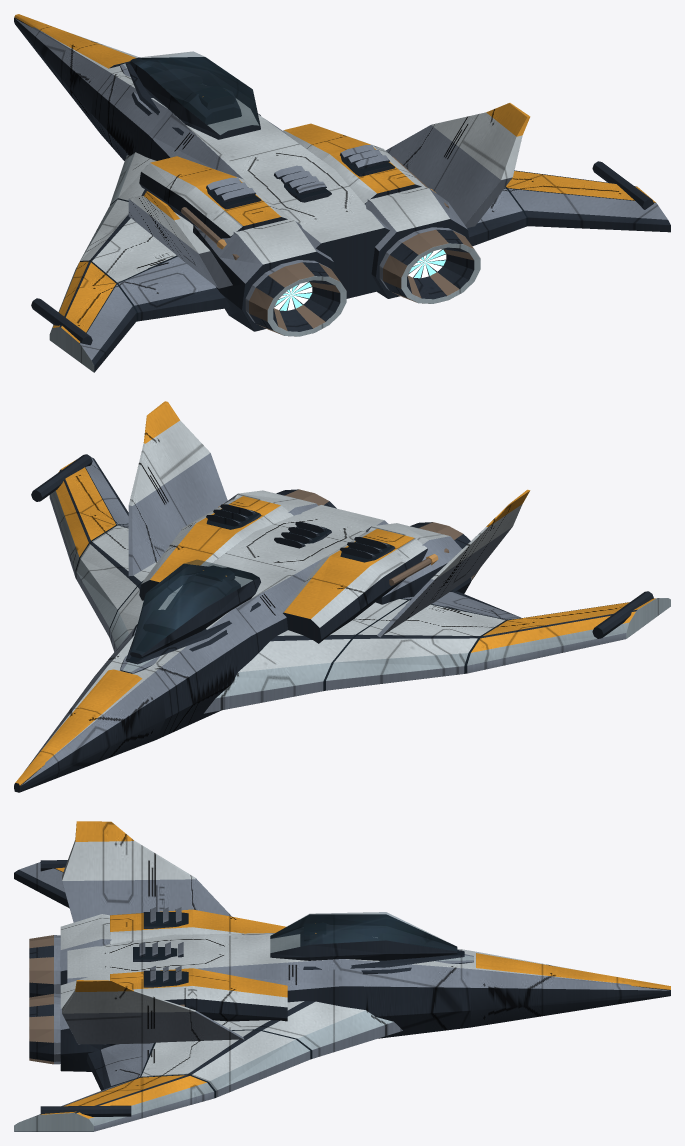
File: kestrel.glb
3 views of the same model, one above another, from view 1: azimuth 30°, elevation 25°; view 2: azimuth 150°, elevation 25°; view 3: azimuth 270°, elevation 25° (orthographic). The views are drawn at different scales.
Visible parts, largest first — view 1: Airframe; view 2: Airframe; view 3: Airframe.
Boxes of the visible parts, x1=… form: Airframe: x1=14, y1=14, x2=670, y2=372; Airframe: x1=14, y1=401, x2=670, y2=792; Airframe: x1=14, y1=821, x2=670, y2=1131.
Bounding box in the file's own units: 2.24 × 0.542 × 2.46.
Materials: 12 (7 with a texture image).
